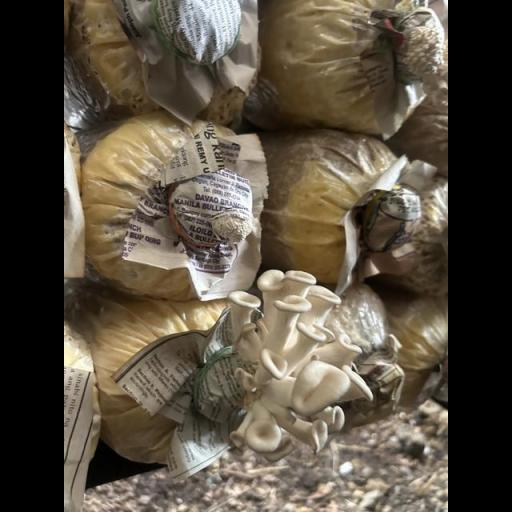White Oyster Mushroom: (208, 260, 386, 473)
